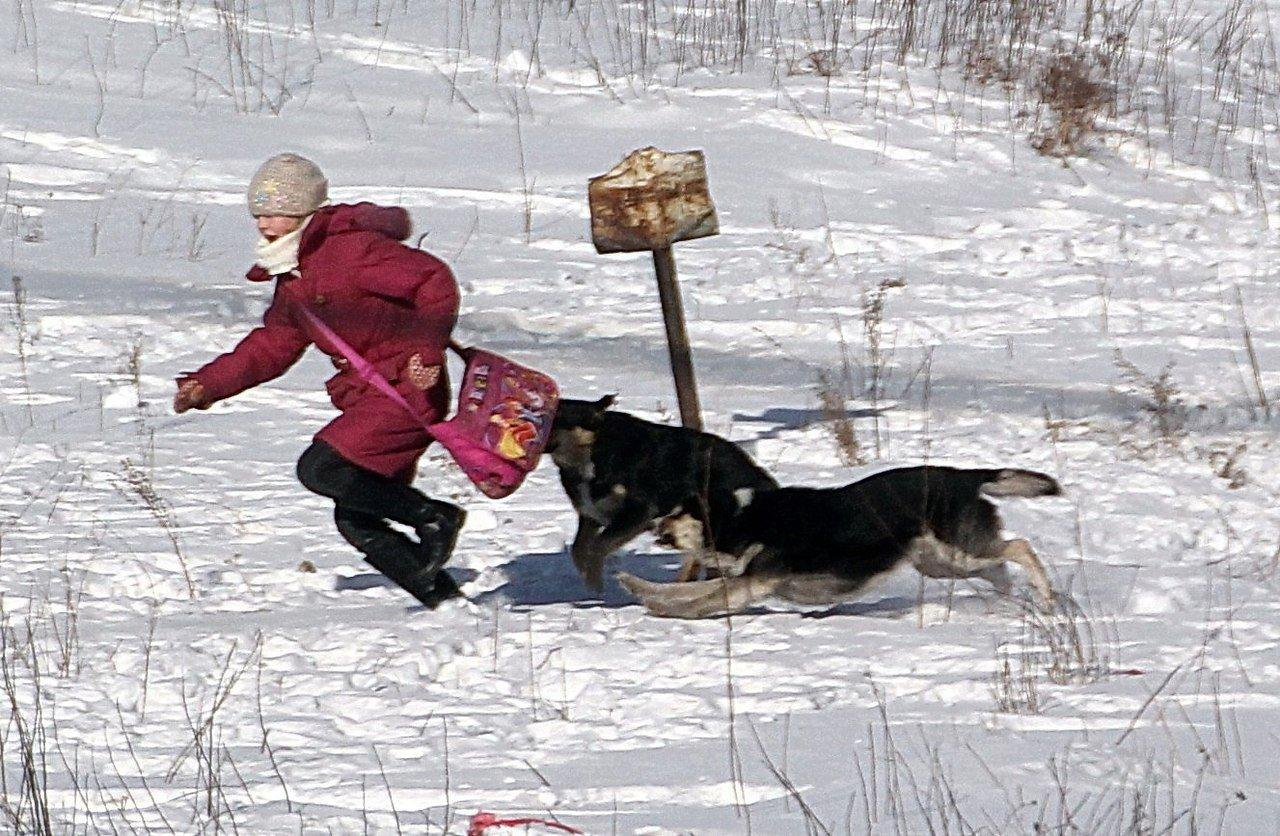dog_aggressive: (622, 449, 1076, 626), (526, 384, 786, 610)
